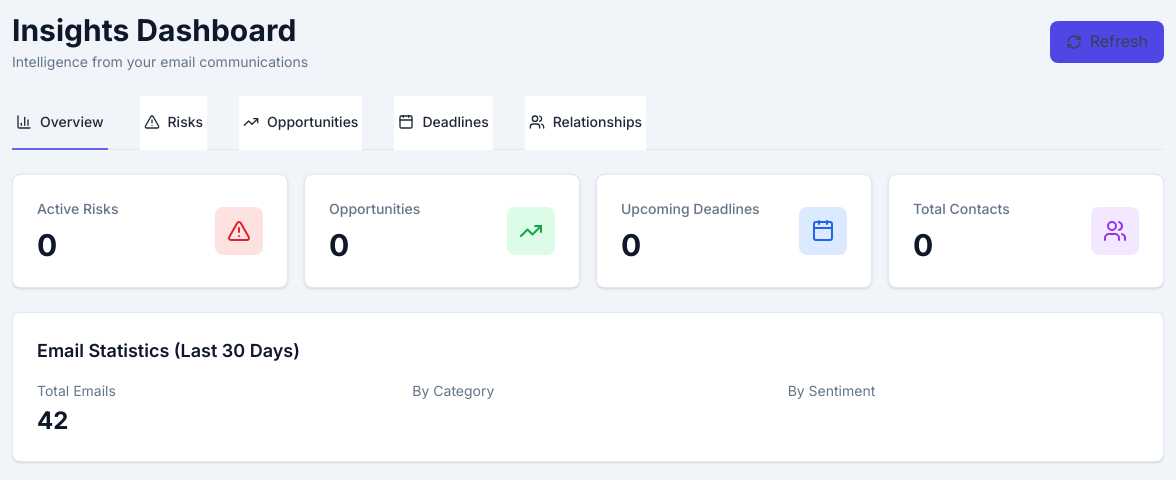
Test case: Insights Dashboard › preserves empty states across the extracted list tabs
Expected: the heading "Insights Dashboard" is shown, [12, 12, 308, 48]
Step 1. Click the button "Risks" → (173, 123), box [140, 96, 207, 150]
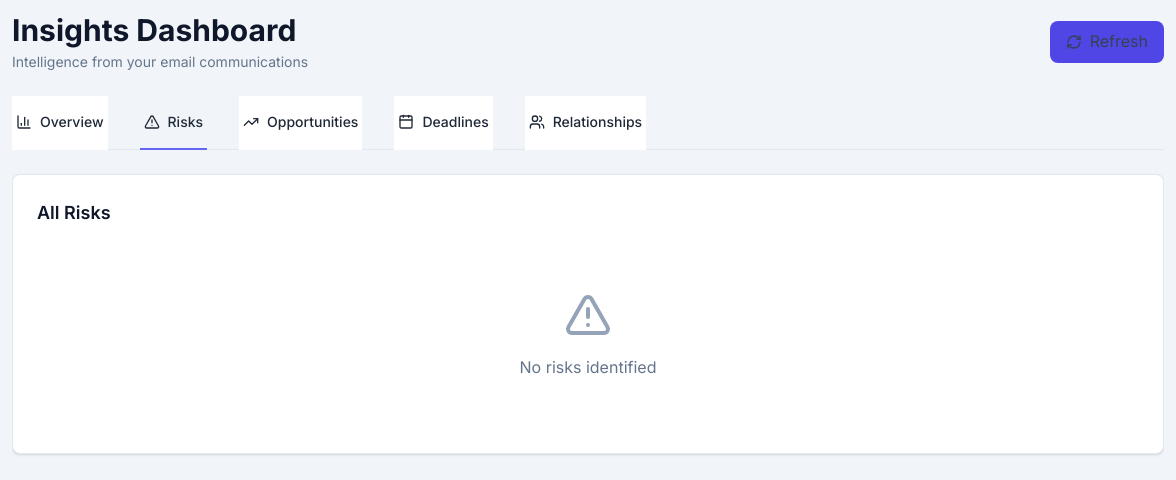
Now the text "No risks identified" is shown, box [520, 357, 656, 377]
Step 2. Click the button "Opportunities" → (301, 123), box [239, 96, 362, 150]
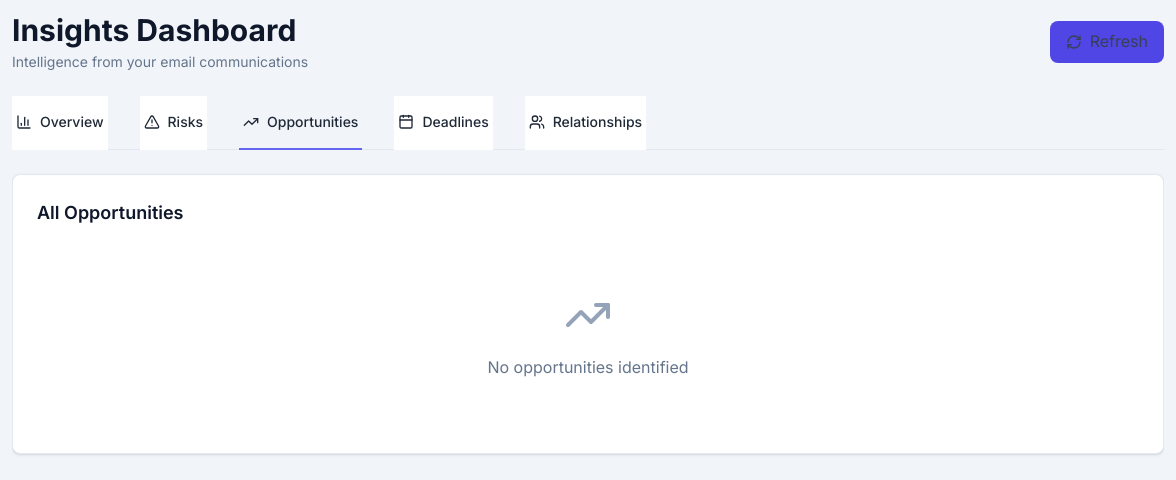
Now the text "No opportunities identified" is shown, box [488, 357, 689, 377]
Step 3. Click the button "Deadlines" → (444, 123), box [394, 96, 493, 150]
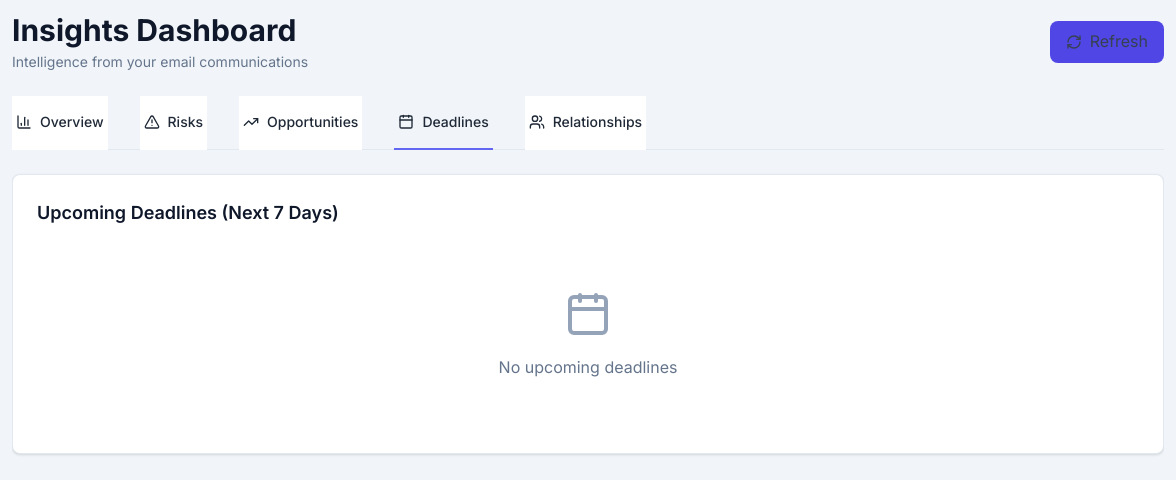
Now the text "No upcoming deadlines" is shown, box [499, 357, 677, 377]
Step 4. Click the button "Relationships" → (585, 123), box [525, 96, 646, 150]
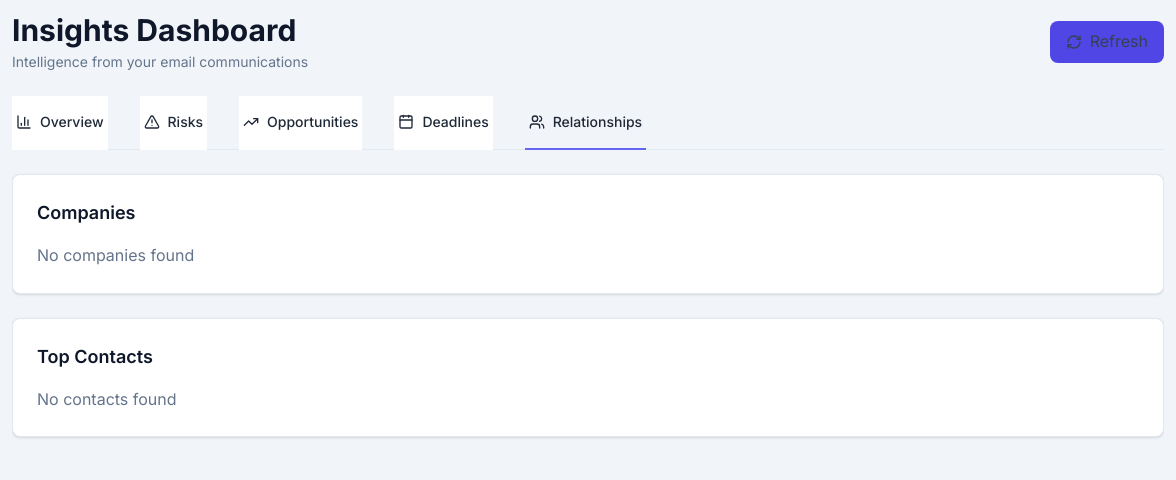
Now the text "No companies found" is shown, box [37, 245, 194, 265]
Now the text "No contacts found" is shown, box [37, 389, 177, 409]
